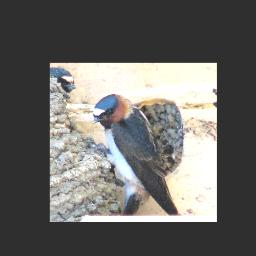Swallow: (92, 93, 185, 214)
